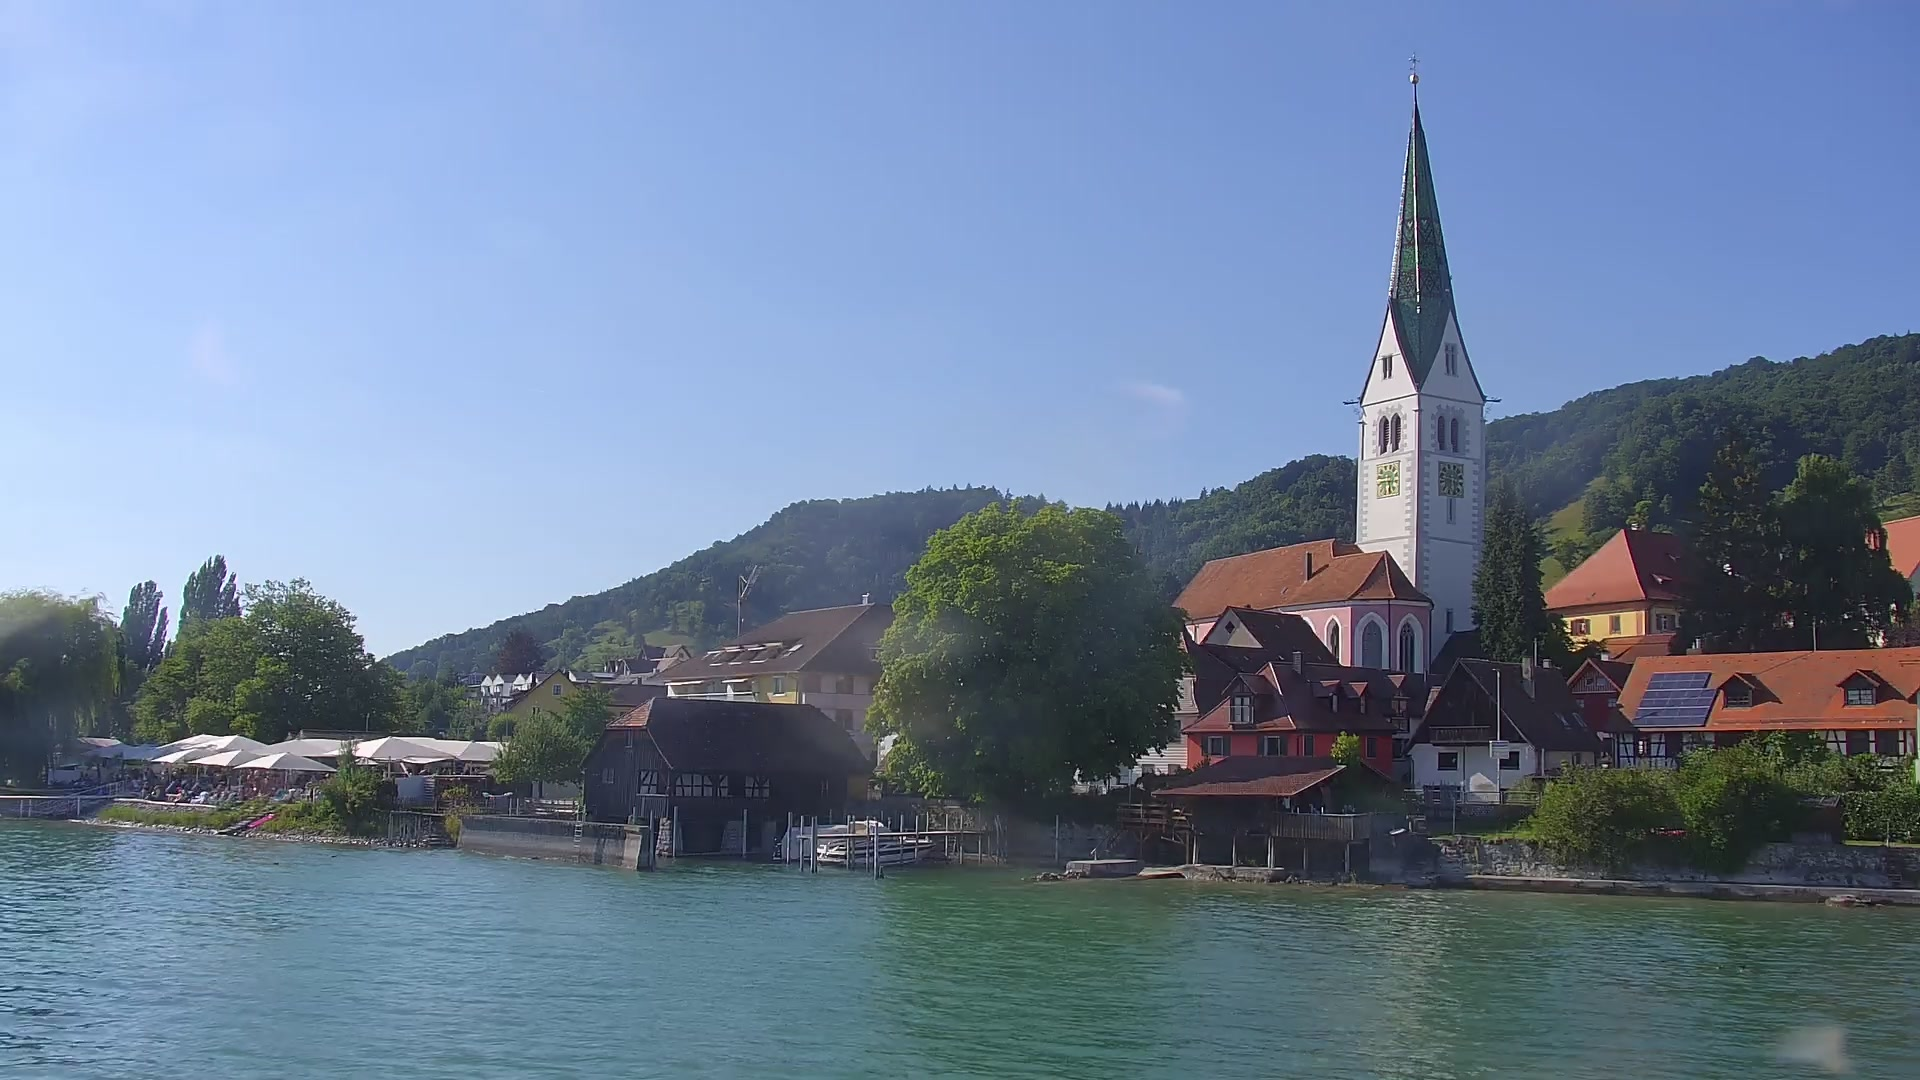sea: (771, 818, 891, 864), (814, 833, 936, 866)
